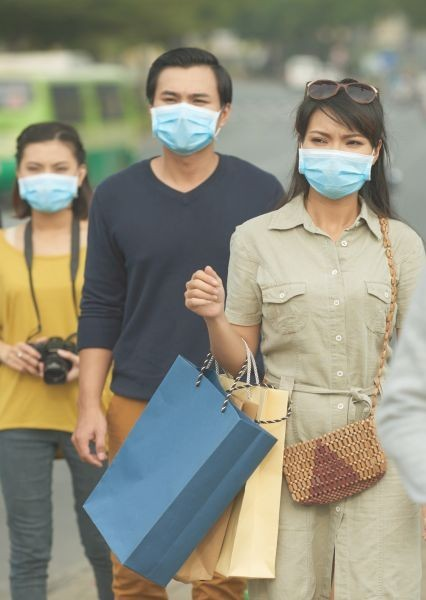with_mask: (297, 101, 383, 204), (146, 57, 231, 156), (17, 137, 86, 221)
